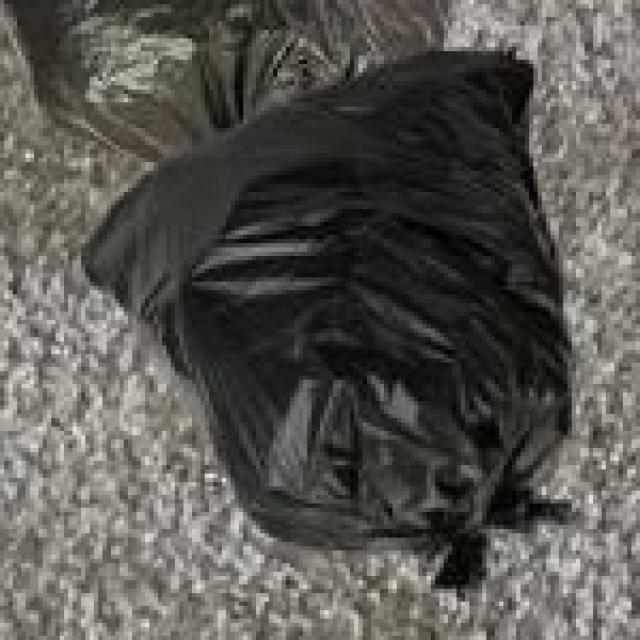Trashbag: (73, 49, 586, 605)
